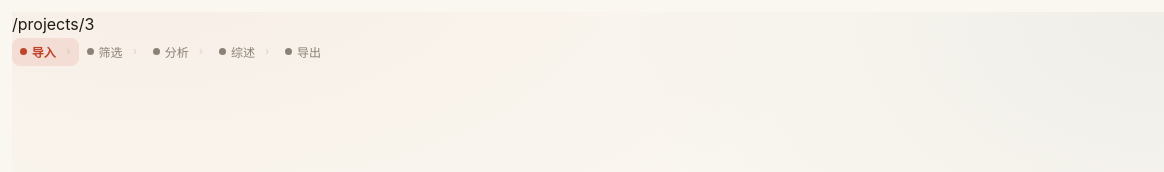
Scenario: StageBar 可交互工作流向导 › 点「导入」跳文献库
The image size is (1164, 172).
Click the button with aria-label "第 1 步 导入" at (45, 52), box [12,38,79,66]
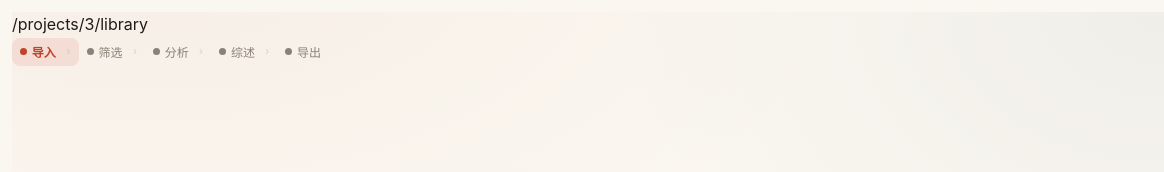
Check: the text with test id "location" reads "/projects/3/library", box [12,14,148,34]
